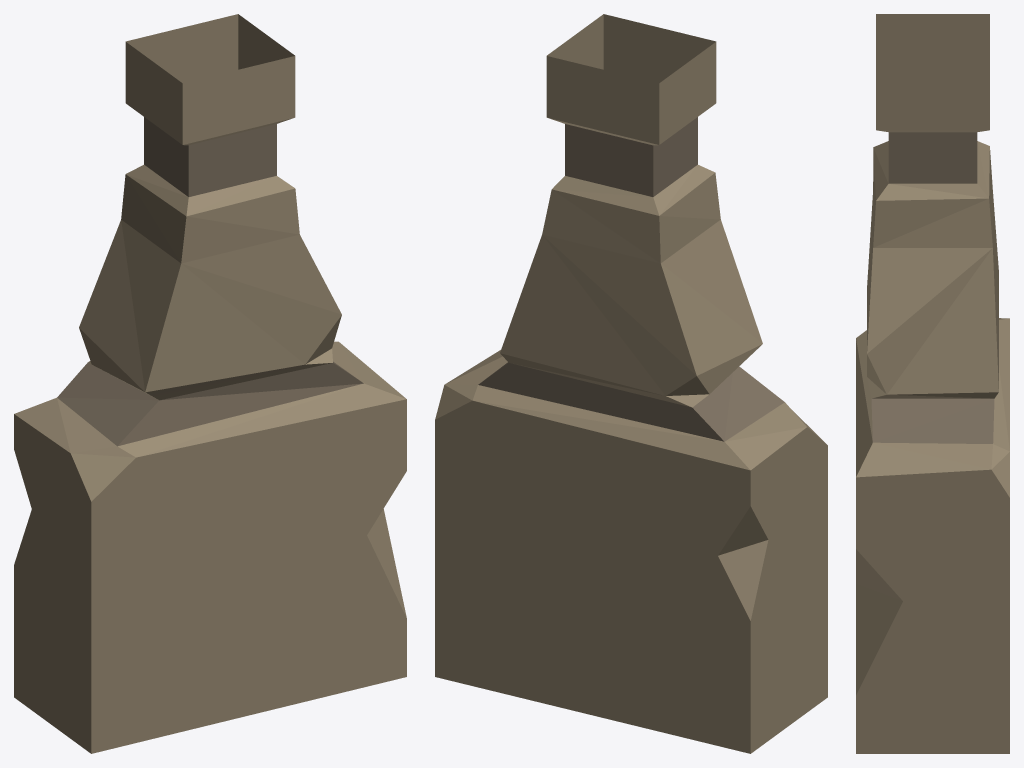
Rendered from SM_Bld_House_Chimney_01.gltf.
3 renders of one model, left to right at view 1: azimuth 30°, elevation 25°; view 2: azimuth 150°, elevation 25°; view 3: azimuth 270°, elevation 25°, orthographic.
Parts seen in each view (by area): view 1: SM_Bld_House_Chimney_01; view 2: SM_Bld_House_Chimney_01; view 3: SM_Bld_House_Chimney_01.
Part boxes in pixels (x1,y1,x2,y2): SM_Bld_House_Chimney_01: (14,14,406,753); SM_Bld_House_Chimney_01: (435,14,827,753); SM_Bld_House_Chimney_01: (856,14,1009,753).
Size of the model in its own units: 2.38 by 4.6 by 1.01.
Materials: 1 (1 with a texture image).
